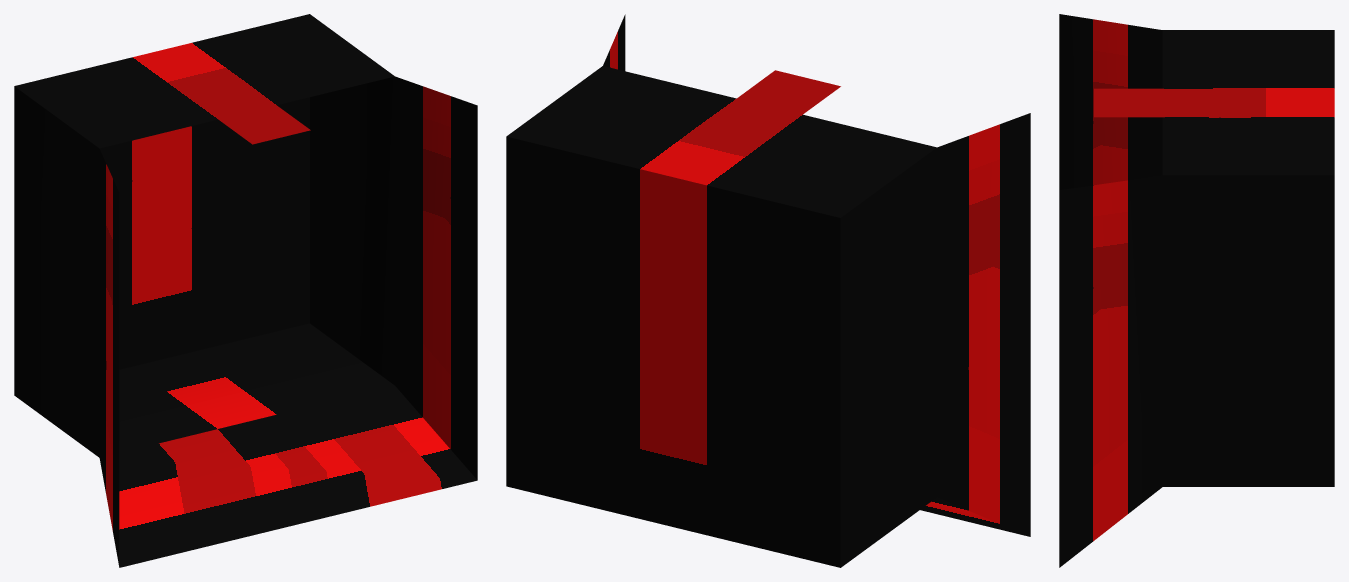
The model's file is SM_PillagerHelmet.glb.
3 renders of one model, left to right at view 1: azimuth 30°, elevation 25°; view 2: azimuth 150°, elevation 25°; view 3: azimuth 270°, elevation 25°, orthographic. The views are drawn at different scales.
Visible parts, largest first — view 1: SM_PillagerHelmet.001; view 2: SM_PillagerHelmet.001; view 3: SM_PillagerHelmet.001.
Part boxes in pixels (x1=…): SM_PillagerHelmet.001: x1=14, y1=14, x2=477, y2=567; SM_PillagerHelmet.001: x1=506, y1=14, x2=1030, y2=567; SM_PillagerHelmet.001: x1=1059, y1=14, x2=1334, y2=567.
Bounding box in the file's own units: 75.77 × 75.77 × 50.
Materials: 1 (1 with a texture image).
